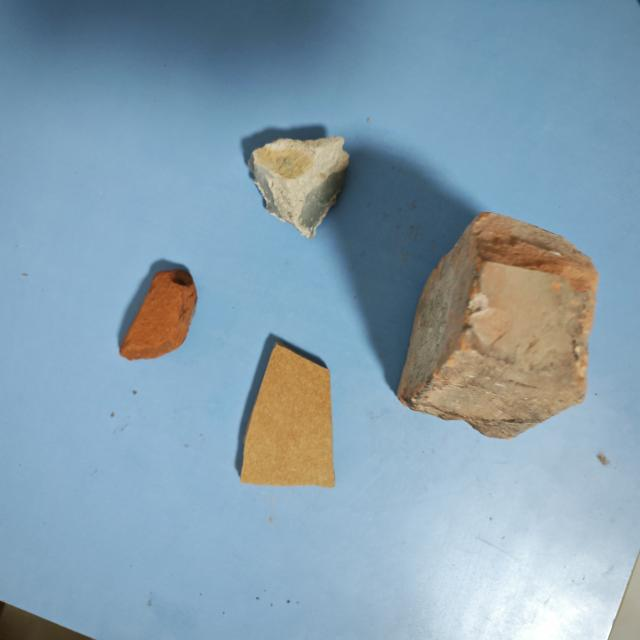-Other waste - brick-: (397, 212, 598, 442), (251, 132, 354, 240), (116, 266, 200, 362)
-Other waste - ceramic-: (233, 338, 337, 493)
